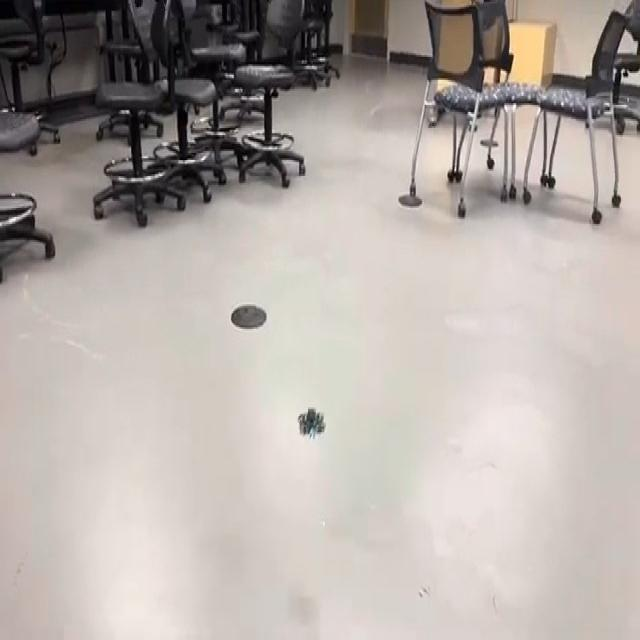drone: (284, 396, 331, 446)
